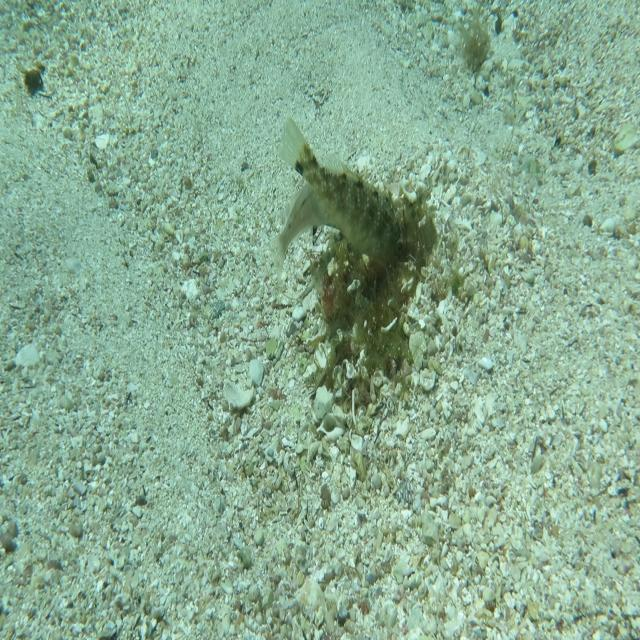NIP_CORE: (277, 116, 411, 268)
core_nest: (380, 224, 421, 268)
female: (265, 160, 346, 283)
nest: (301, 164, 454, 420)
